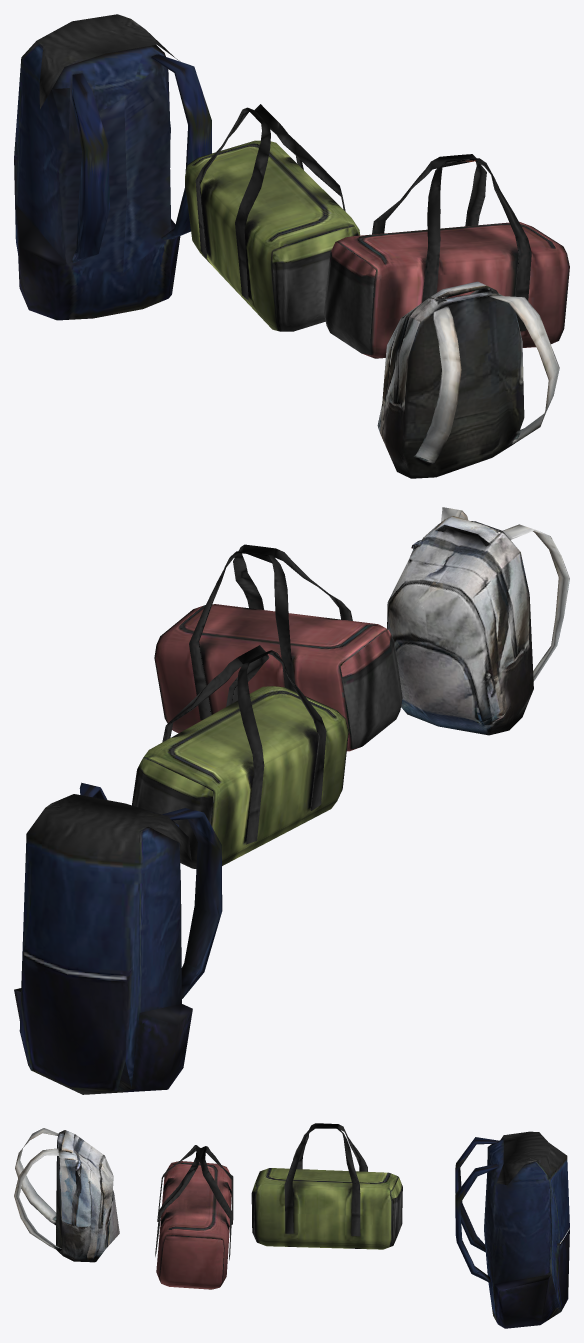
The model's file is bags.fbx.
3 views of the same model, one above another, from view 1: azimuth 30°, elevation 25°; view 2: azimuth 150°, elevation 25°; view 3: azimuth 270°, elevation 25° (orthographic). The views are drawn at different scales.
Visible parts, largest first — view 1: Shoulder_Travel_Bag_2_2, Shoulder_Bag_1_1, Hand_Travel_Bag_1_1, Hand_Travel_Bag_2_1; view 2: Shoulder_Travel_Bag_2_2, Shoulder_Bag_1_1, Hand_Travel_Bag_2_1, Hand_Travel_Bag_1_1; view 3: Shoulder_Travel_Bag_2_2, Hand_Travel_Bag_2_1, Hand_Travel_Bag_1_1, Shoulder_Bag_1_1.
Boxes of the visible parts, x1=… form: Shoulder_Travel_Bag_2_2: x1=14, y1=14, x2=211, y2=320; Shoulder_Bag_1_1: x1=377, y1=281, x2=559, y2=478; Hand_Travel_Bag_1_1: x1=324, y1=154, x2=569, y2=358; Hand_Travel_Bag_2_1: x1=185, y1=104, x2=360, y2=331; Shoulder_Travel_Bag_2_2: x1=14, y1=782, x2=222, y2=1094; Shoulder_Bag_1_1: x1=387, y1=507, x2=569, y2=735; Hand_Travel_Bag_2_1: x1=132, y1=645, x2=348, y2=868; Hand_Travel_Bag_1_1: x1=154, y1=544, x2=402, y2=751; Shoulder_Travel_Bag_2_2: x1=455, y1=1131, x2=569, y2=1328; Hand_Travel_Bag_2_1: x1=251, y1=1123, x2=402, y2=1249; Hand_Travel_Bag_1_1: x1=155, y1=1145, x2=233, y2=1289; Shoulder_Bag_1_1: x1=14, y1=1128, x2=119, y2=1262.
Size of the model in its own units: 84.33 by 92.42 by 241.
